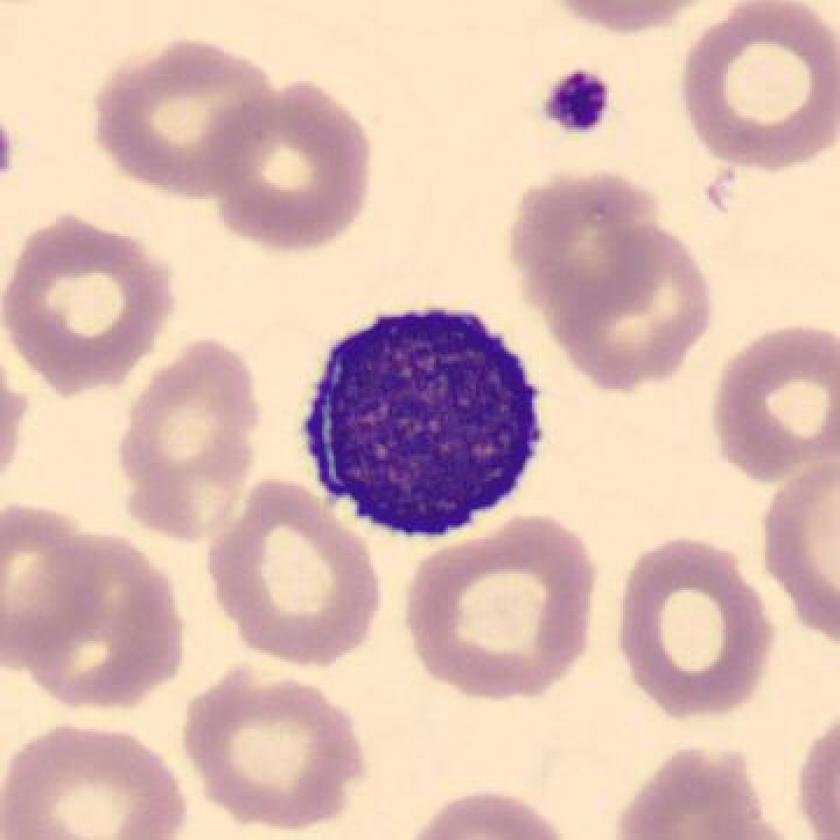lymphocyte: (288, 290, 556, 561)
platelets: (539, 61, 617, 144)
